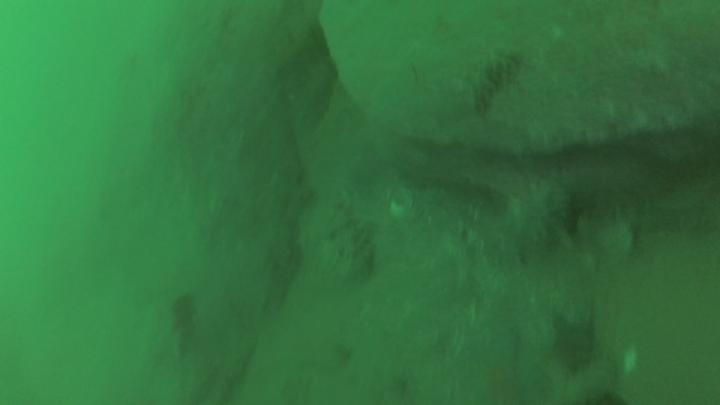holothurian: (328, 195, 377, 282), (466, 54, 526, 113)
